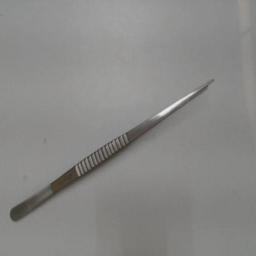DeBakey Dissector: (6, 62, 230, 228)
